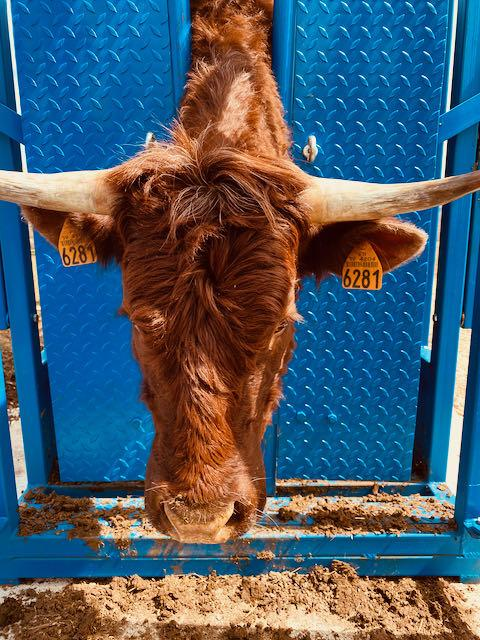muzzles: (141, 491, 260, 552)
